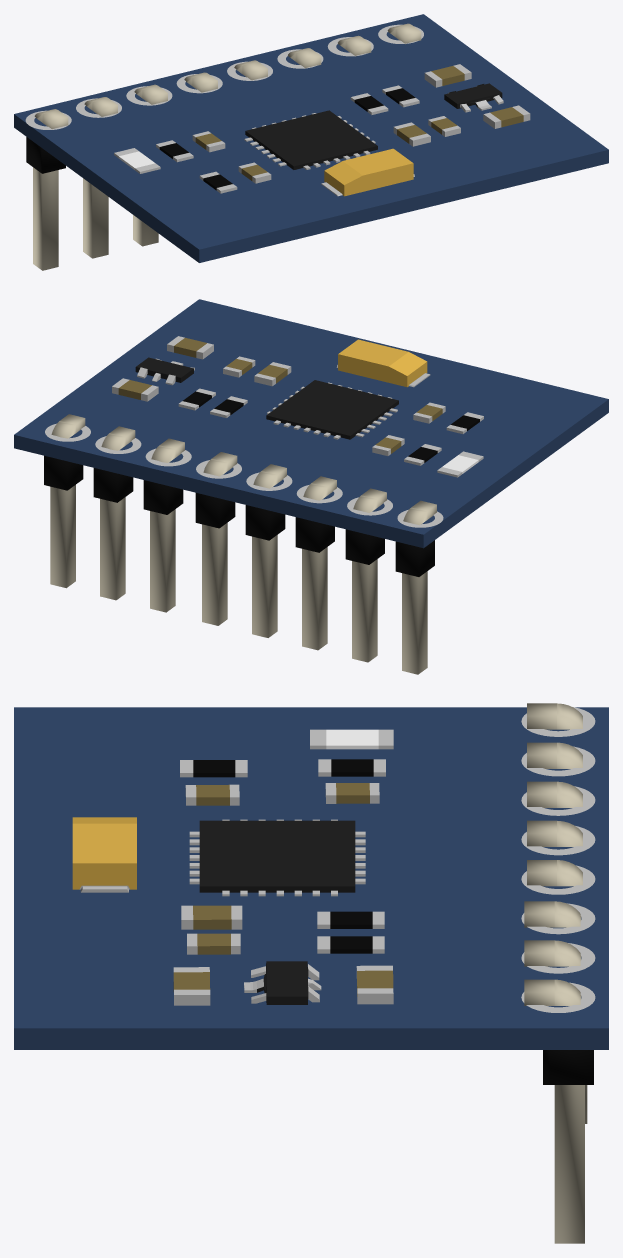
File: mpu6050.glb
3 views of the same model, one above another, from view 1: azimuth 30°, elevation 25°; view 2: azimuth 150°, elevation 25°; view 3: azimuth 270°, elevation 25° (orthographic). The views are drawn at different scales.
Parts seen in each view (by area): view 1: MPU6050_DARKBLUEPCB_0, MPU6050_Metallic_0, MPU6050_silverContacts_0, MPU6050_icEpoxy.001_0, MPU6050_yellowEpoxy_0, MPU6050_BrownEpoxy_0, MPU6050_BlackPlastic_0, MPU6050_silverContacts.001_0, MPU6050_LedSMDBLUE_0; view 2: MPU6050_DARKBLUEPCB_0, MPU6050_Metallic_0, MPU6050_BlackPlastic_0, MPU6050_silverContacts_0, MPU6050_icEpoxy.001_0, MPU6050_yellowEpoxy_0, MPU6050_BrownEpoxy_0, MPU6050_silverContacts.001_0; view 3: MPU6050_DARKBLUEPCB_0, MPU6050_Metallic_0, MPU6050_icEpoxy.001_0, MPU6050_silverContacts_0, MPU6050_BlackPlastic_0, MPU6050_yellowEpoxy_0, MPU6050_BrownEpoxy_0, MPU6050_silverContacts.001_0, MPU6050_LedSMDBLUE_0.
Part boxes in pixels (left/top/right/bottom): MPU6050_DARKBLUEPCB_0: left=14, top=14, right=608, bottom=262; MPU6050_Metallic_0: left=33, top=23, right=421, bottom=270; MPU6050_silverContacts_0: left=25, top=24, right=530, bottom=196; MPU6050_icEpoxy.001_0: left=245, top=83, right=502, bottom=169; MPU6050_yellowEpoxy_0: left=324, top=148, right=413, bottom=196; MPU6050_BrownEpoxy_0: left=195, top=66, right=523, bottom=180; MPU6050_BlackPlastic_0: left=26, top=88, right=415, bottom=190; MPU6050_silverContacts.001_0: left=244, top=113, right=375, bottom=169; MPU6050_LedSMDBLUE_0: left=118, top=151, right=154, bottom=169; MPU6050_DARKBLUEPCB_0: left=14, top=299, right=608, bottom=548; MPU6050_Metallic_0: left=50, top=414, right=436, bottom=674; MPU6050_BlackPlastic_0: left=44, top=391, right=479, bottom=576; MPU6050_silverContacts_0: left=45, top=336, right=483, bottom=527; MPU6050_icEpoxy.001_0: left=135, top=357, right=398, bottom=439; MPU6050_yellowEpoxy_0: left=338, top=339, right=427, bottom=387; MPU6050_BrownEpoxy_0: left=118, top=337, right=442, bottom=453; MPU6050_silverContacts.001_0: left=267, top=382, right=397, bottom=439; MPU6050_DARKBLUEPCB_0: left=14, top=707, right=608, bottom=1049; MPU6050_Metallic_0: left=524, top=703, right=587, bottom=1243; MPU6050_icEpoxy.001_0: left=199, top=820, right=355, bottom=1004; MPU6050_silverContacts_0: left=79, top=707, right=595, bottom=1012; MPU6050_BlackPlastic_0: left=193, top=759, right=593, bottom=1084; MPU6050_yellowEpoxy_0: left=72, top=817, right=136, bottom=889; MPU6050_BrownEpoxy_0: left=173, top=783, right=393, bottom=996; MPU6050_silverContacts.001_0: left=189, top=819, right=365, bottom=896; MPU6050_LedSMDBLUE_0: left=326, top=729, right=378, bottom=749.
Bounding box in the file's own units: 0.0209 × 0.00798 × 0.0163.
